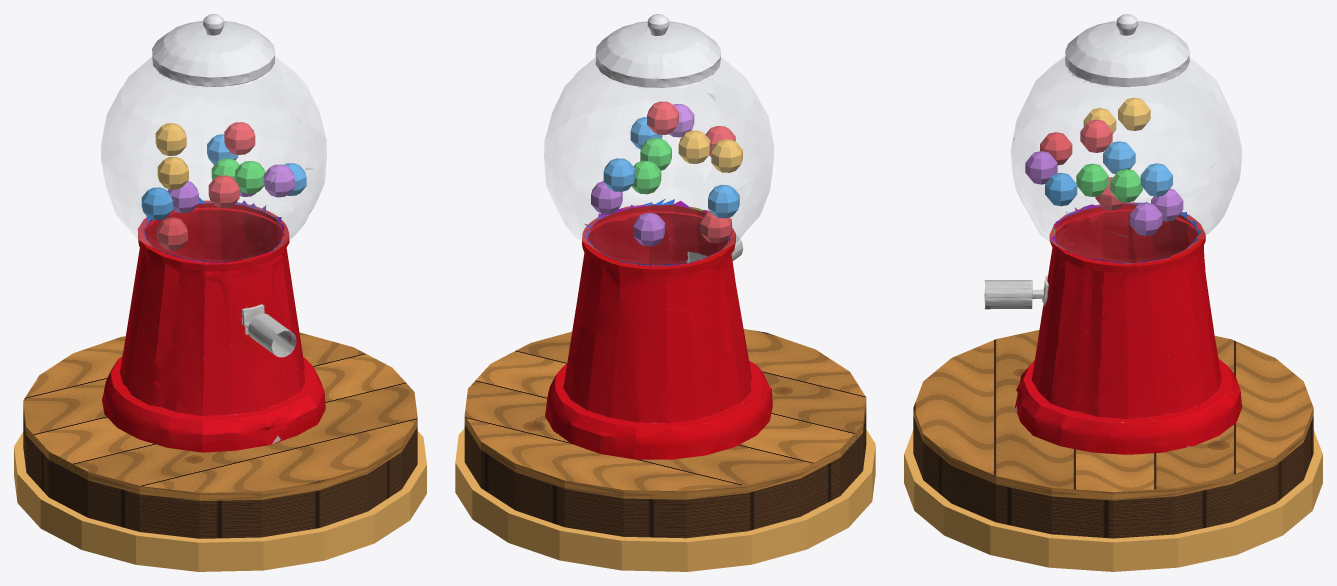
The model's file is Gum.glb.
The picture shows the model from 3 angles, left to right: view 1: azimuth 30°, elevation 25°; view 2: azimuth 150°, elevation 25°; view 3: azimuth 270°, elevation 25°; orthographic projection.
Parts seen in each view (by area): view 1: Gum Head, pedestal, rim; view 2: Gum Head, pedestal, rim; view 3: Gum Head, pedestal, rim.
Boxes of the visible parts, box(x1,y1,x2,y2) form: Gum Head: box(101, 14, 326, 452); pedestal: box(23, 332, 417, 538); rim: box(14, 431, 426, 571); Gum Head: box(544, 14, 773, 459); pedestal: box(464, 329, 866, 538); rim: box(455, 428, 875, 571); Gum Head: box(984, 14, 1241, 454); pedestal: box(913, 330, 1313, 538); rim: box(904, 430, 1322, 571).
Bounding box in the file's own units: 0.9 × 1.11 × 0.9.
Materials: 11 (3 with a texture image).
